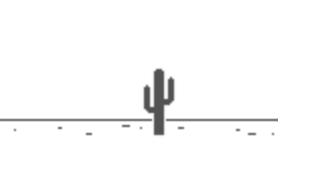t-rex: (142, 66, 177, 139)
